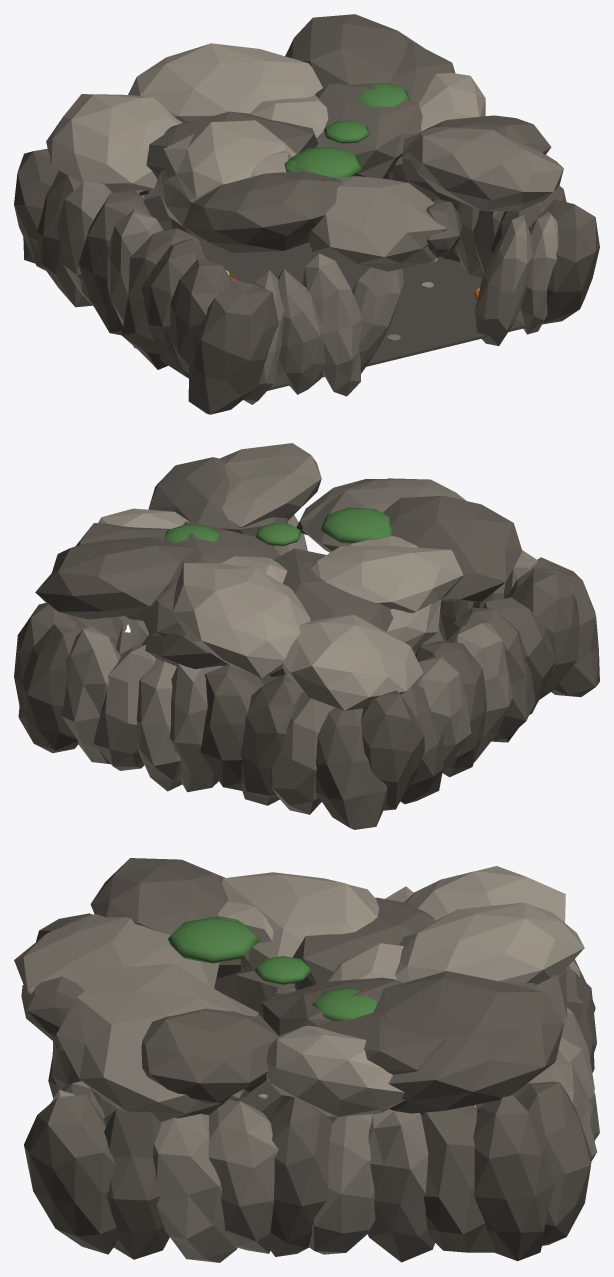
File: cave.glb
3 views of the same model, one above another, from view 1: azimuth 30°, elevation 25°; view 2: azimuth 150°, elevation 25°; view 3: azimuth 270°, elevation 25° (orthographic). The views are drawn at different scales.
Parts seen in each view (by area): view 1: Cave_walls_rock_dark, Cave_Roof_rock_light, Cave_Roof_rock_dark, Cave_walls_rock, Cave_Roof_rock, Cave_inside_cave_floor, Cave_Roof_green_dark, Cave_walls_rock_light; view 2: Cave_walls_rock_dark, Cave_Roof_rock_dark, Cave_Roof_rock_light, Cave_walls_rock, Cave_Roof_rock, Cave_Roof_green_dark; view 3: Cave_walls_rock_dark, Cave_Roof_rock_dark, Cave_Roof_rock_light, Cave_walls_rock, Cave_Roof_rock, Cave_Roof_green_dark, Cave_inside_cave_floor.
Part boxes in pixels (box(x1,y1,x2,y2)): Cave_walls_rock_dark: box(14, 148, 599, 414); Cave_Roof_rock_light: box(46, 43, 485, 227); Cave_Roof_rock_dark: box(146, 14, 551, 252); Cave_walls_rock: box(56, 170, 532, 404); Cave_Roof_rock: box(307, 127, 563, 271); Cave_inside_cave_floor: box(198, 239, 546, 390); Cave_Roof_green_dark: box(284, 83, 409, 178); Cave_walls_rock_light: box(517, 212, 558, 334); Cave_walls_rock_dark: box(14, 479, 599, 829); Cave_Roof_rock_dark: box(35, 457, 522, 676); Cave_Roof_rock_light: box(98, 508, 463, 710); Cave_walls_rock: box(61, 515, 538, 814); Cave_Roof_rock: box(220, 443, 466, 552); Cave_Roof_green_dark: box(165, 507, 392, 545); Cave_walls_rock_dark: box(21, 913, 596, 1261); Cave_Roof_rock_dark: box(90, 858, 567, 1113); Cave_Roof_rock_light: box(217, 866, 584, 1117); Cave_walls_rock: box(48, 886, 599, 1262); Cave_Roof_rock: box(14, 914, 258, 1122); Cave_Roof_green_dark: box(168, 916, 377, 1020); Cave_inside_cave_floor: box(110, 1080, 483, 1117).
Size of the model in its own units: 10.17 by 4.84 by 10.35.
